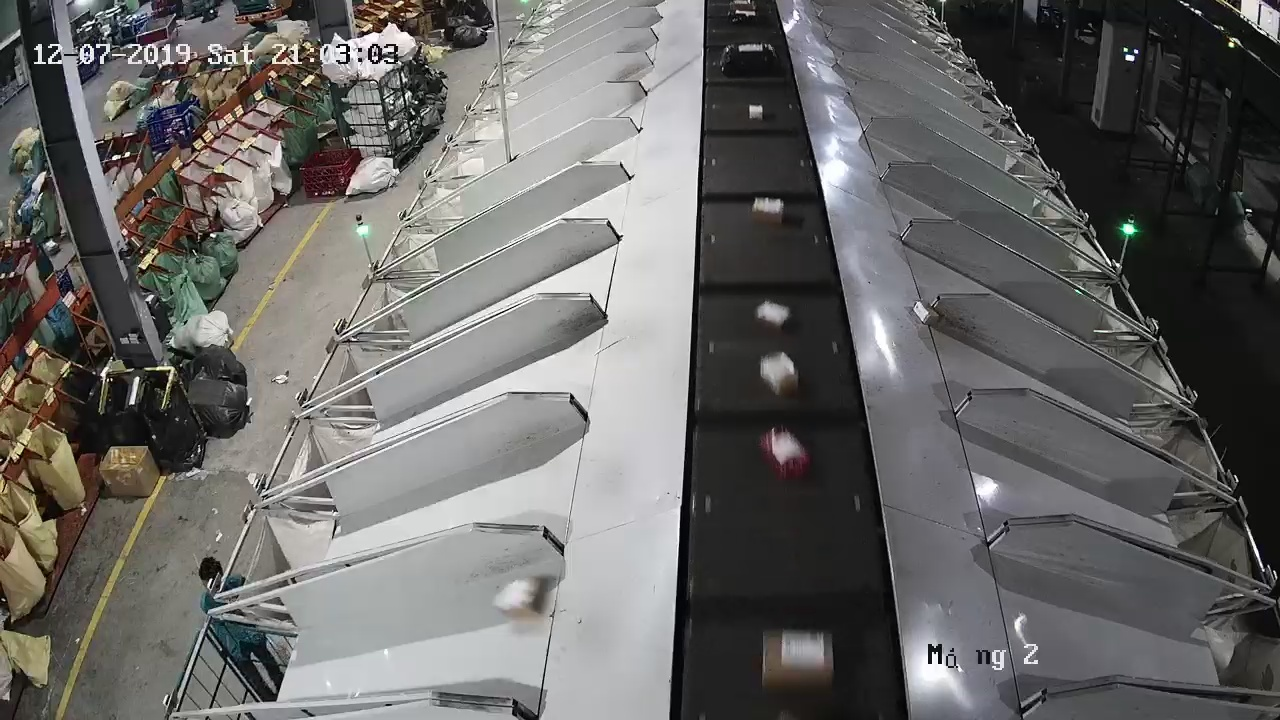parcel: (490, 576, 549, 619)
